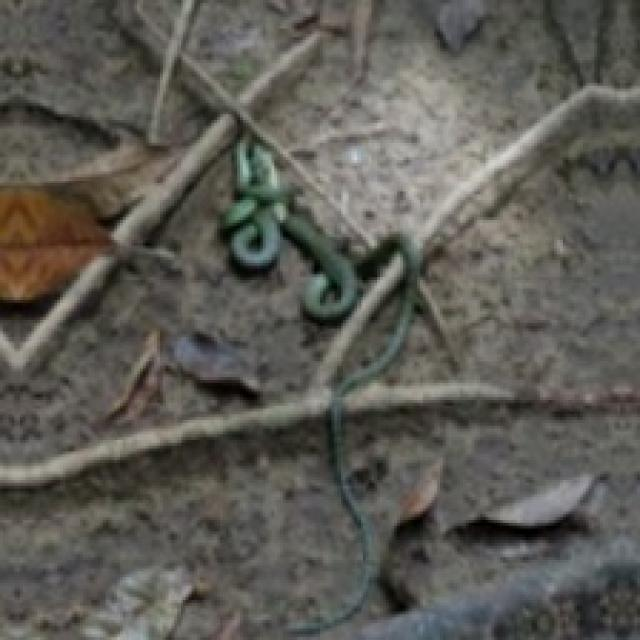paradise tree snake: (223, 134, 357, 320)
